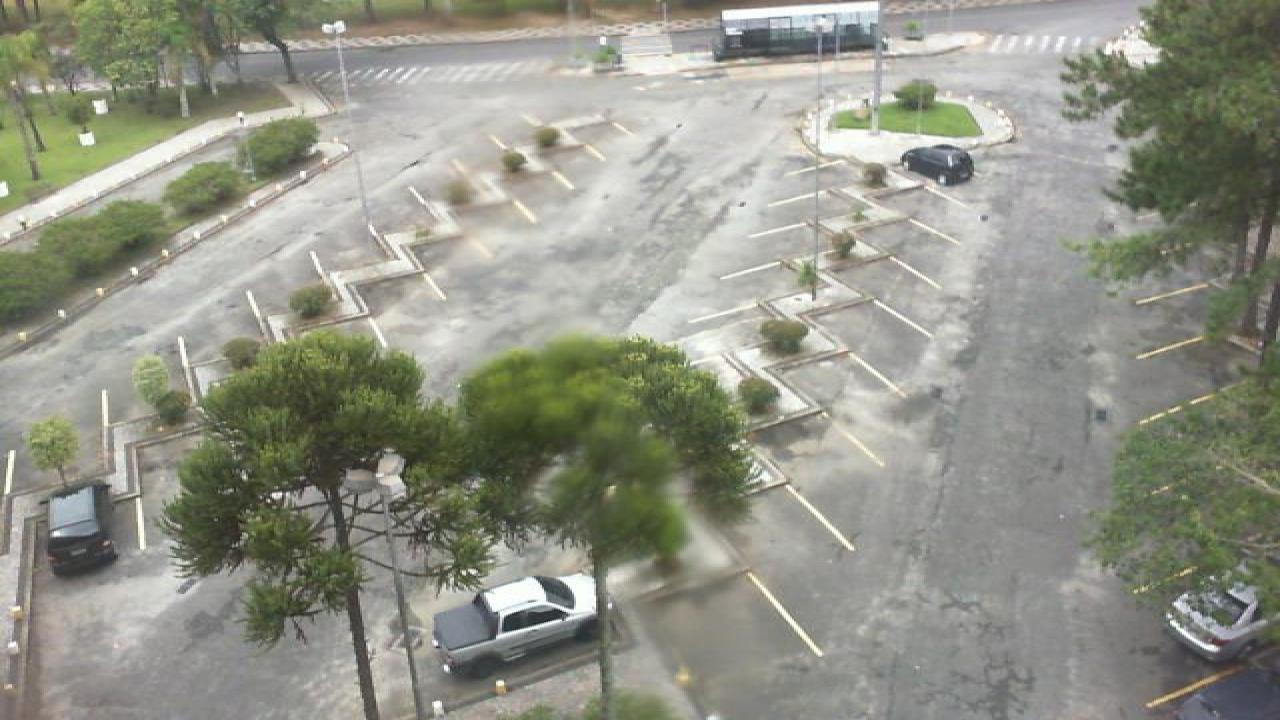Car: (430, 572, 600, 676), (1164, 564, 1276, 662), (40, 480, 118, 576), (900, 144, 976, 187)
